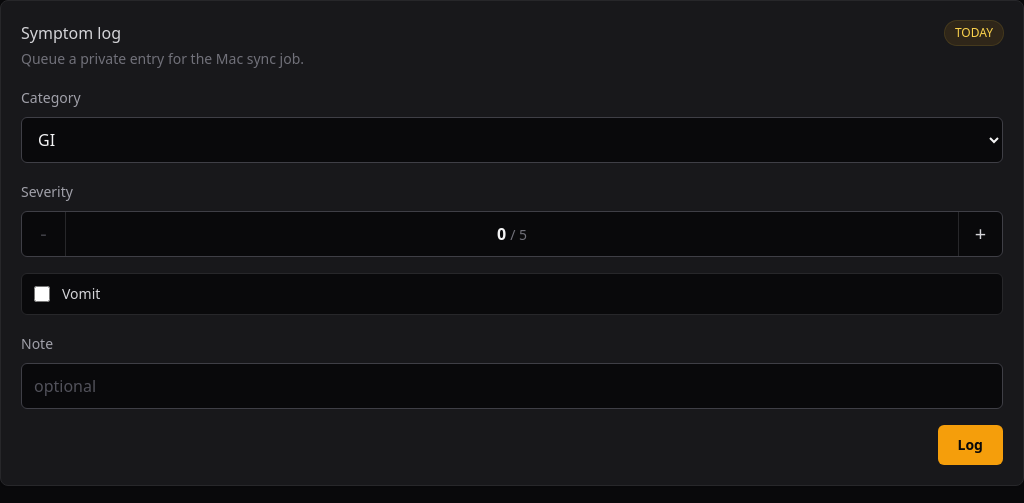
Test: SymptomForm › posts the symptom input to the configured worker origin
Select "Sleep" in the dropdown labelled "Category": (512, 140) [21, 117, 1003, 163]
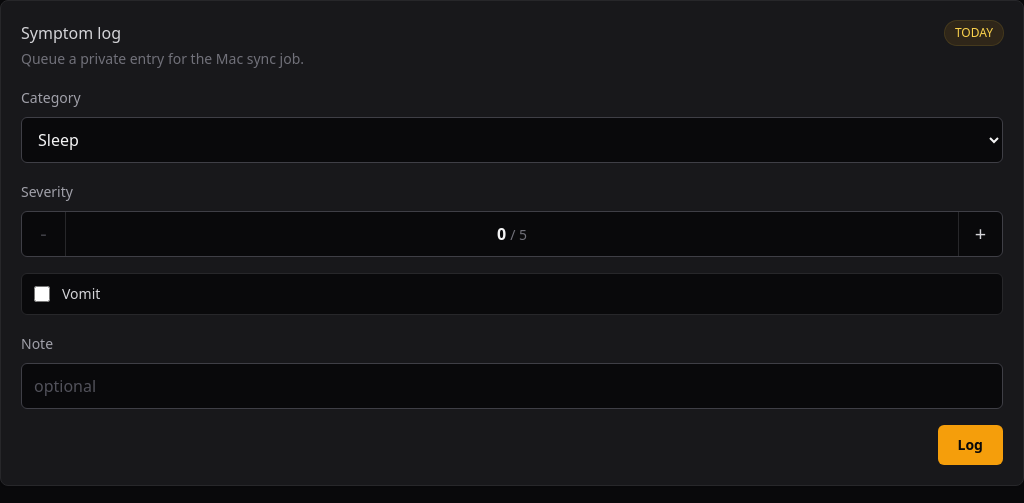
Click the button named "increase severity": (980, 234) [958, 212, 1002, 256]
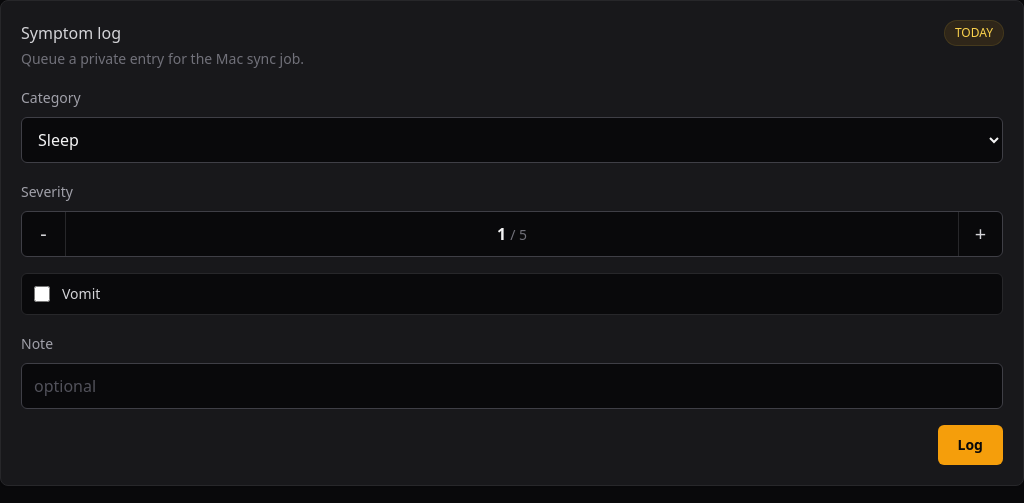
Click the button named "increase severity": (980, 234) [958, 212, 1002, 256]
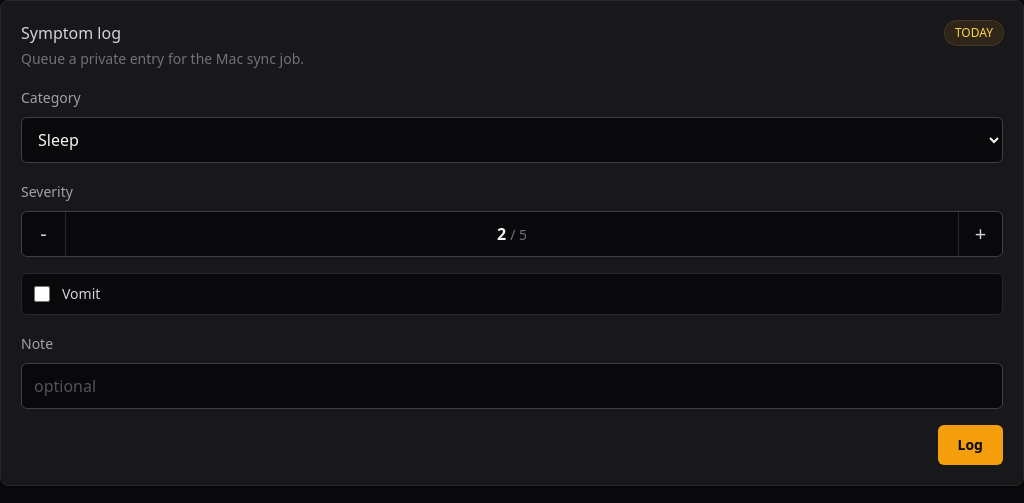
Click the checkbox labelled "Vomit": (42, 294) [34, 286, 50, 302]
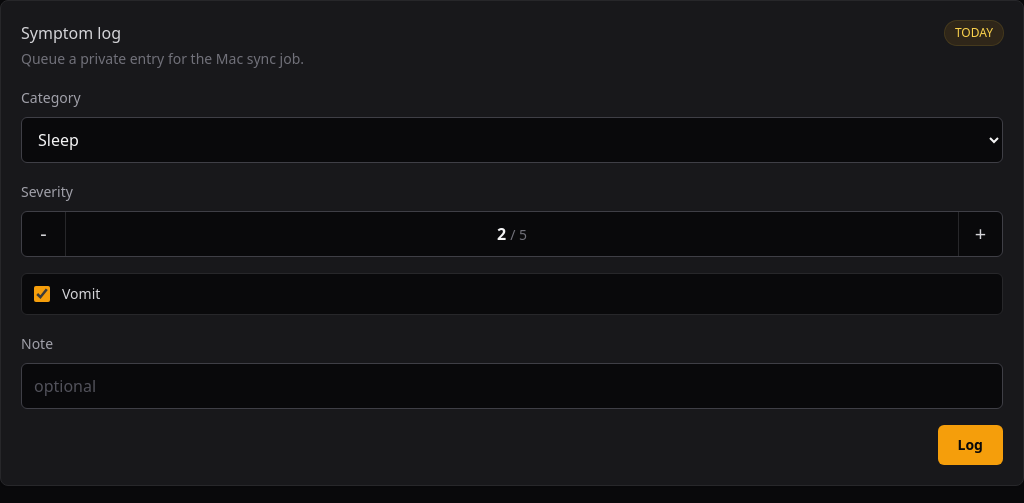
In the field labelled "Note": (512, 386) [21, 363, 1003, 409], type "rough night"
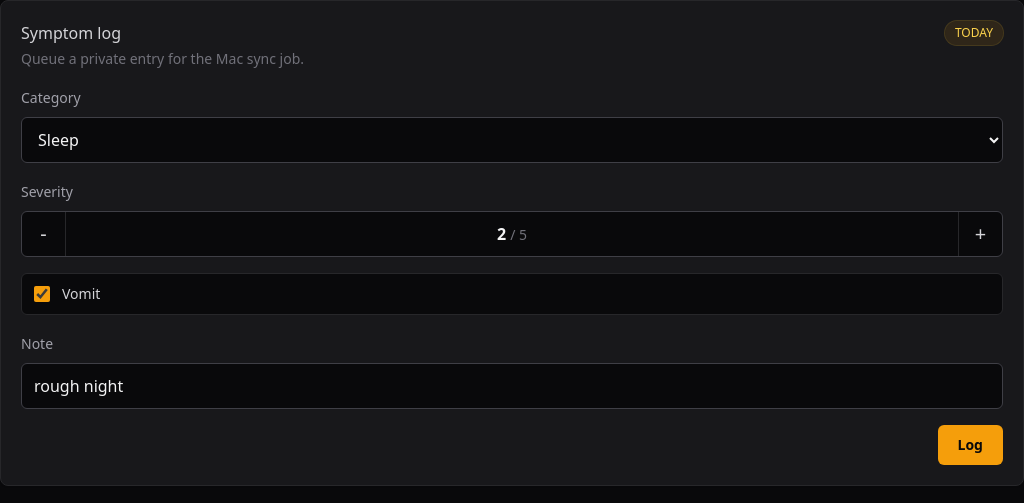
Click the button "Log": (970, 445) [938, 425, 1003, 465]
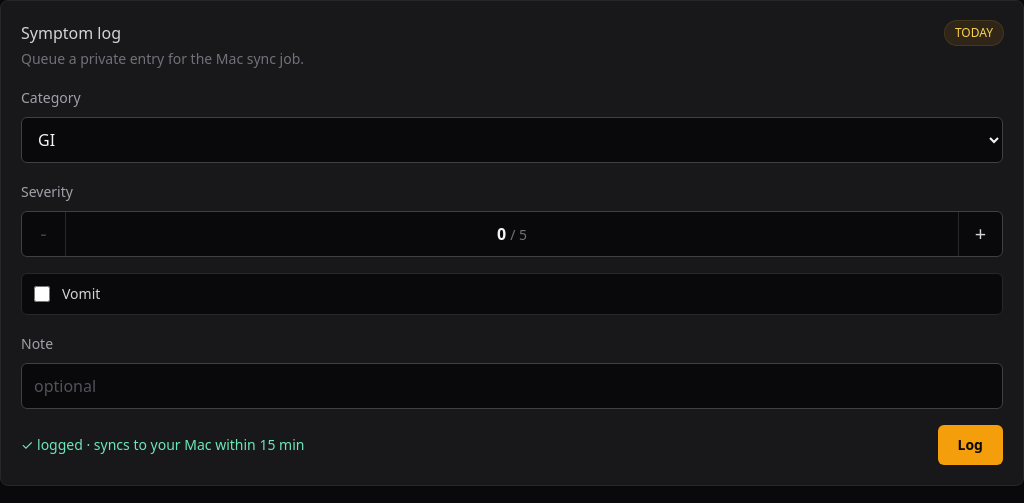
Expected: the text "✓ logged · syncs to your Mac within 15 min" is shown, [21, 435, 304, 454]
Expected: the field labelled "Note" is empty, [21, 363, 1003, 409]
